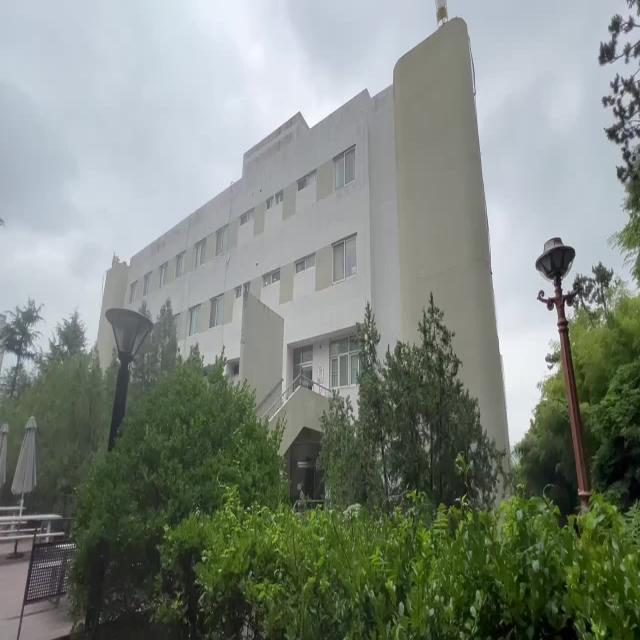building: (119, 25, 493, 322)
